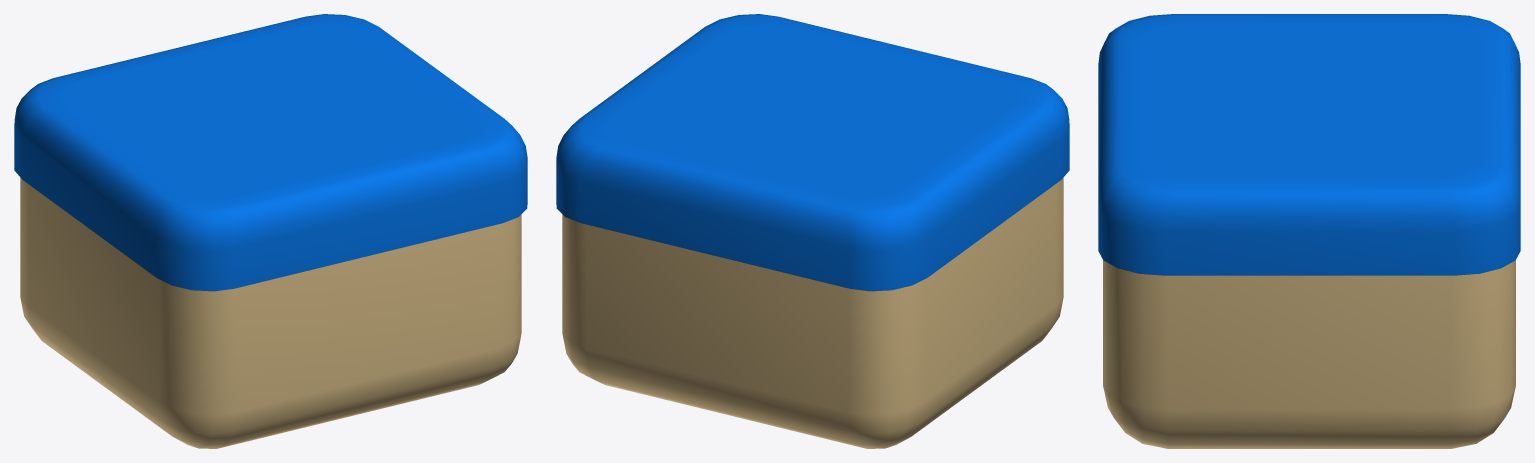
Rendered from fridgebox2.glb.
The picture shows the model from 3 angles, left to right: view 1: azimuth 30°, elevation 25°; view 2: azimuth 150°, elevation 25°; view 3: azimuth 270°, elevation 25°; orthographic projection. The views are drawn at different scales.
Visible parts, largest first — view 1: Cube.050; view 2: Cube.050; view 3: Cube.050.
Part boxes in pixels (x1=…): Cube.050: x1=14, y1=14, x2=527, y2=448; Cube.050: x1=556, y1=14, x2=1069, y2=448; Cube.050: x1=1098, y1=14, x2=1520, y2=448.
Bounding box in the file's own units: 0.4573 × 0.304 × 0.4259.
